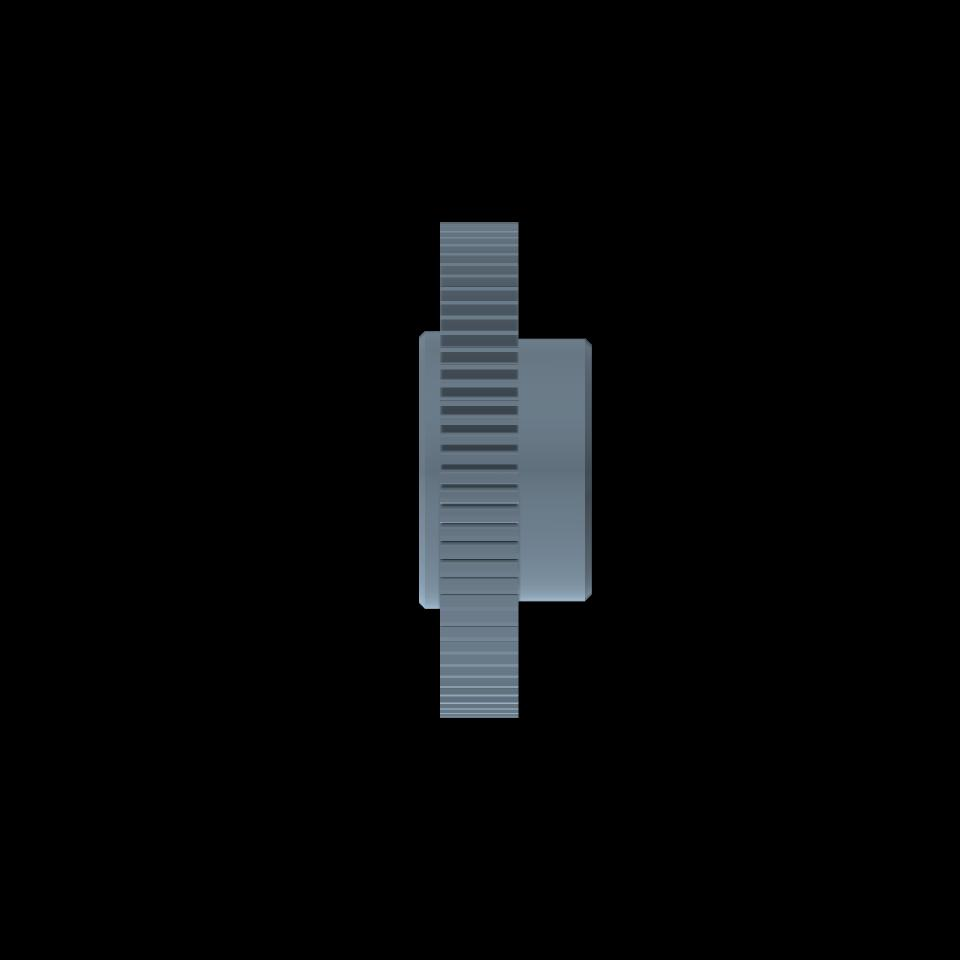Straight: (440, 222, 518, 718)
